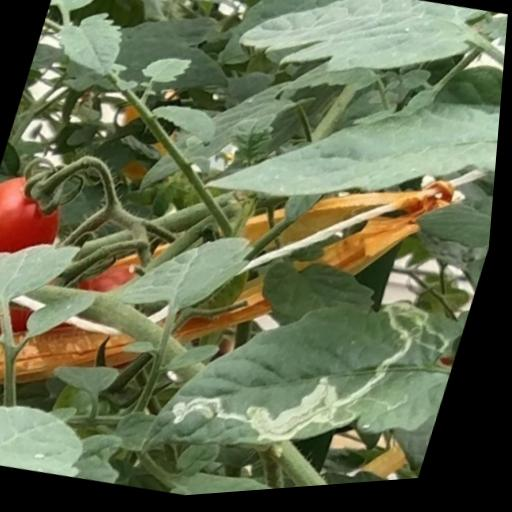Healthy: (196, 46, 507, 262), (231, 0, 494, 116), (119, 215, 264, 334), (0, 224, 86, 318), (45, 3, 132, 85), (26, 280, 104, 351), (147, 97, 226, 152), (139, 50, 195, 93)
Leaf_Miner: (141, 254, 479, 502)
